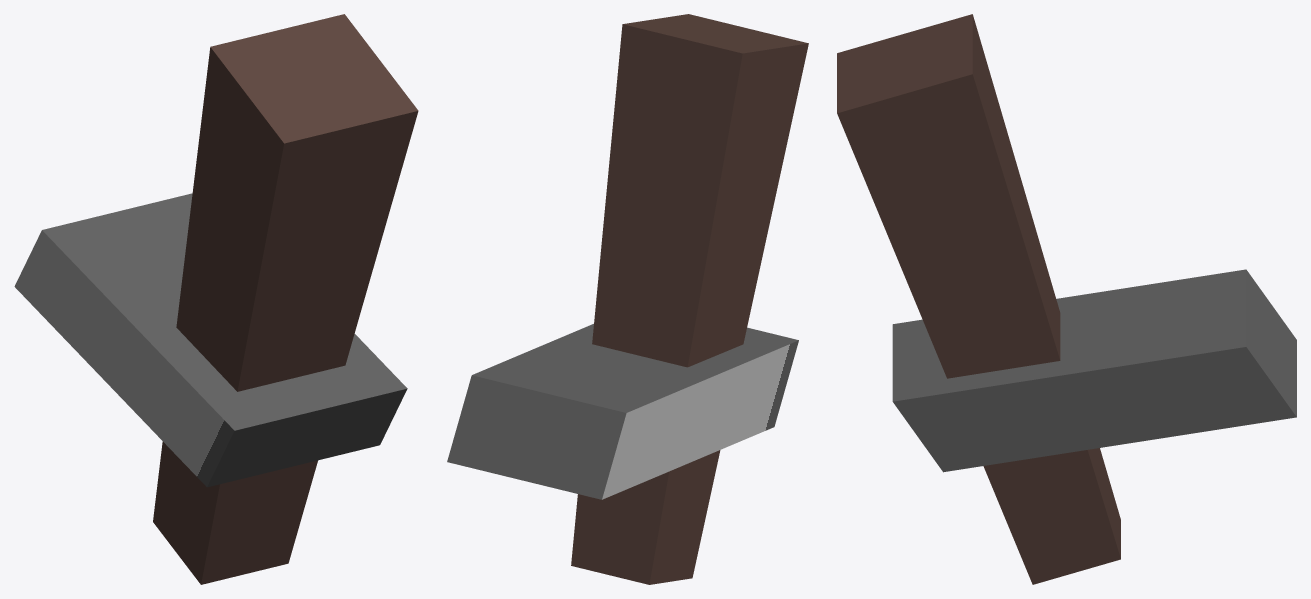
File: Torch.fbx
3 views of the same model, side by side, from view 1: azimuth 30°, elevation 25°; view 2: azimuth 150°, elevation 25°; view 3: azimuth 270°, elevation 25° (orthographic). The views are drawn at different scales.
Parts seen in each view (by area): view 1: Torch; view 2: Torch; view 3: Torch.
Boxes of the visible parts, x1=… form: Torch: x1=14, y1=14, x2=418, y2=584; Torch: x1=447, y1=14, x2=808, y2=584; Torch: x1=837, y1=14, x2=1296, y2=584.
Bounding box in the file's own units: 0.3612 × 1.13 × 0.9058.
1 material, 1 textured.
